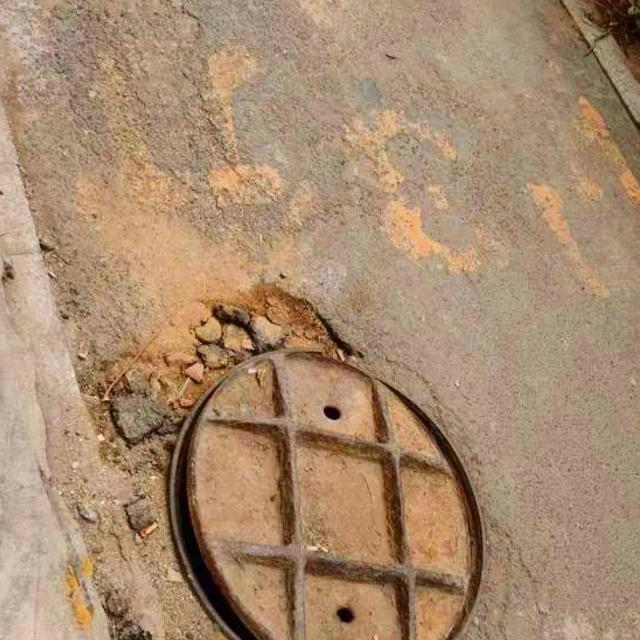circle: (41, 275, 537, 640)
